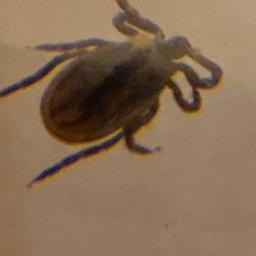Ixodes scapularis: (1, 0, 223, 188)
